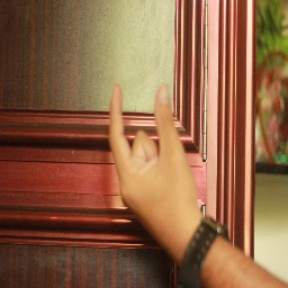U: (103, 77, 192, 222)
